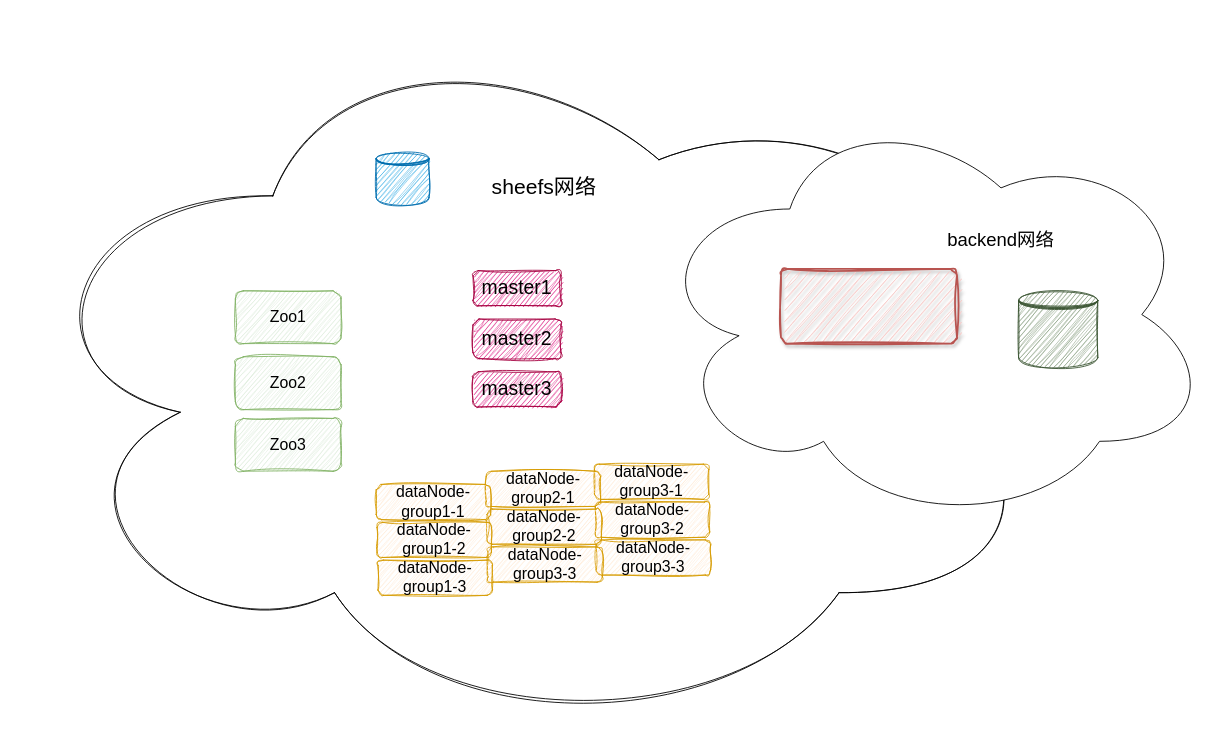
The diagram is 1228 pixels wide and 752 high, and some of its shapes have lost their labels. The centre of each missing label's shape, as x and y in pixels:
gdock_backend: pixel 869 307
Kafka: pixel 402 178
MongoDB: pixel 1058 328
